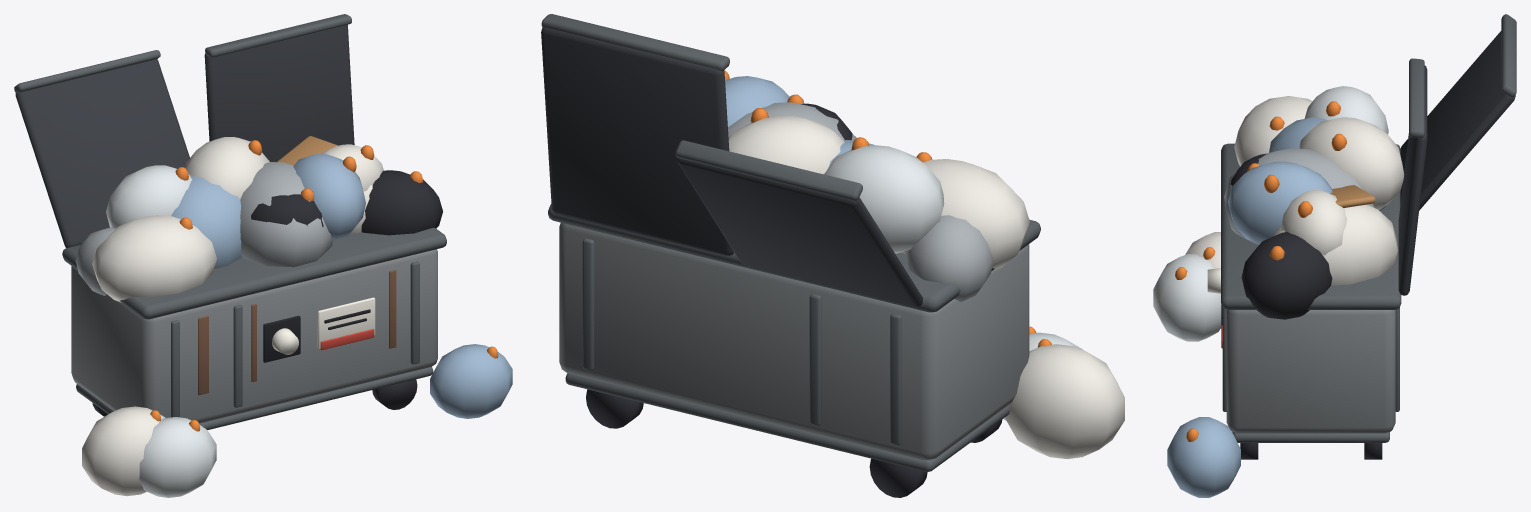
The model's file is dumpster.glb.
3 views of the same model, side by side, from view 1: azimuth 30°, elevation 25°; view 2: azimuth 150°, elevation 25°; view 3: azimuth 270°, elevation 25° (orthographic). The views are drawn at different scales.
Parts seen in each view (by area): view 1: DUMPSTER · body, DUMPSTER · lid 1, DUMPSTER · lid 2, DUMPSTER · rolled rim, DUMPSTER · heaped bag 1, DUMPSTER · heaped bag 3, DUMPSTER · bag on the ground 1, DUMPSTER · bag on the ground 2, DUMPSTER · bag on the ground 3, DUMPSTER · heaped bag 5, DUMPSTER · heaped bag 8, DUMPSTER · heaped bag 2 (+18 smaller); view 2: DUMPSTER · body, DUMPSTER · lid 2, DUMPSTER · lid 1, DUMPSTER · bag on the ground 1, DUMPSTER · heaped bag 6, DUMPSTER · heaped bag 1, DUMPSTER · base rail, DUMPSTER · heaped bag 9, DUMPSTER · heaped bag 7, DUMPSTER · lid 1 lip, DUMPSTER · rolled rim, DUMPSTER · lid 2 lip (+7 smaller); view 3: DUMPSTER · body, DUMPSTER · lid 1, DUMPSTER · rolled rim, DUMPSTER · heaped bag 5, DUMPSTER · heaped bag 7, DUMPSTER · heaped bag 8, DUMPSTER · bag on the ground 3, DUMPSTER · bag on the ground 2, DUMPSTER · heaped bag 4, DUMPSTER · lid 2, DUMPSTER · heaped bag 11, DUMPSTER · heaped bag 1 (+10 smaller).
Part boxes in pixels (box(x1,y1,x2,y2)): DUMPSTER · body: box(71, 249, 437, 423); DUMPSTER · lid 1: box(15, 59, 189, 247); DUMPSTER · lid 2: box(204, 24, 354, 161); DUMPSTER · rolled rim: box(62, 227, 446, 319); DUMPSTER · heaped bag 1: box(92, 215, 216, 302); DUMPSTER · heaped bag 3: box(240, 162, 333, 267); DUMPSTER · bag on the ground 1: box(82, 406, 165, 496); DUMPSTER · bag on the ground 2: box(139, 417, 216, 497); DUMPSTER · bag on the ground 3: box(430, 344, 512, 418); DUMPSTER · heaped bag 5: box(361, 170, 442, 235); DUMPSTER · heaped bag 8: box(293, 154, 365, 240); DUMPSTER · heaped bag 2: box(171, 174, 241, 268); DUMPSTER · body: box(559, 222, 1029, 459); DUMPSTER · lid 2: box(541, 27, 733, 255); DUMPSTER · lid 1: box(677, 158, 922, 307); DUMPSTER · bag on the ground 1: box(1005, 344, 1124, 459); DUMPSTER · heaped bag 6: box(824, 145, 944, 253); DUMPSTER · heaped bag 1: box(901, 159, 1029, 271); DUMPSTER · base rail: box(565, 373, 1009, 471); DUMPSTER · heaped bag 9: box(905, 215, 993, 301); DUMPSTER · heaped bag 7: box(728, 116, 844, 173); DUMPSTER · lid 1 lip: box(675, 140, 862, 200); DUMPSTER · rolled rim: box(548, 204, 1040, 312); DUMPSTER · lid 2 lip: box(541, 14, 729, 71); DUMPSTER · body: box(1226, 309, 1395, 433); DUMPSTER · lid 1: box(1400, 31, 1515, 210); DUMPSTER · rolled rim: box(1221, 143, 1401, 309); DUMPSTER · heaped bag 5: box(1241, 232, 1332, 319); DUMPSTER · heaped bag 7: box(1299, 117, 1404, 209); DUMPSTER · heaped bag 8: box(1228, 161, 1332, 244); DUMPSTER · bag on the ground 3: box(1167, 417, 1240, 497); DUMPSTER · bag on the ground 2: box(1153, 254, 1221, 341); DUMPSTER · heaped bag 4: box(1273, 204, 1397, 285); DUMPSTER · lid 2: box(1398, 65, 1427, 295); DUMPSTER · heaped bag 11: box(1280, 190, 1346, 255); DUMPSTER · heaped bag 1: box(1234, 96, 1312, 166).
Bounding box in the file's own units: 4.45 × 3.46 × 3.22.
